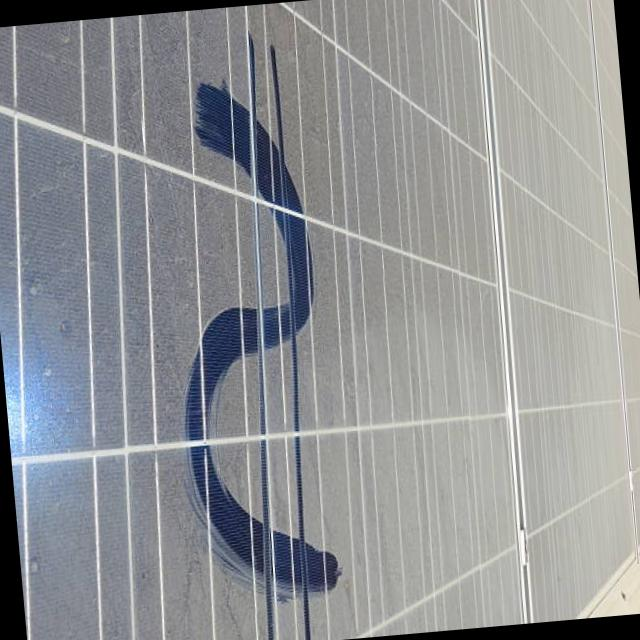faulty: (1, 0, 597, 636)
